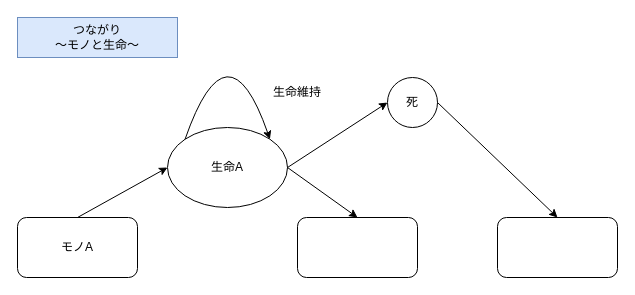
Image size: 635x295. Some labels were removed from this diagram. Here are the shapes that lost their labels. From the top down, the box of each, then its label:
(296, 216, 418, 278): モノB
(496, 216, 618, 278): モノC
